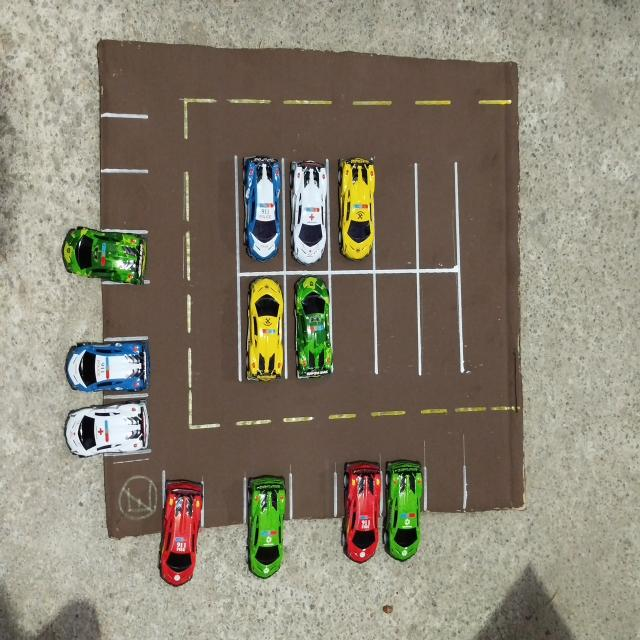libre: (53, 44, 148, 117), (51, 172, 150, 231), (51, 114, 149, 171), (330, 272, 378, 383), (418, 268, 466, 378), (53, 284, 148, 339), (376, 158, 419, 274), (292, 474, 336, 586), (416, 160, 459, 272), (203, 476, 246, 586), (427, 456, 468, 567), (376, 271, 418, 378)
no_estacionarse: (93, 459, 162, 538)
ocupado: (232, 148, 288, 274), (54, 398, 150, 457), (332, 150, 377, 272), (238, 273, 288, 382), (288, 150, 331, 276), (54, 340, 149, 396), (286, 270, 333, 382), (48, 232, 150, 282), (383, 457, 427, 568), (246, 476, 291, 584), (337, 463, 383, 568), (165, 474, 203, 590)
